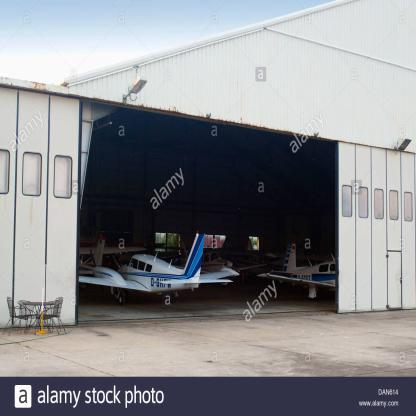CIV_Plane: (86, 228, 244, 302), (262, 245, 338, 300)
